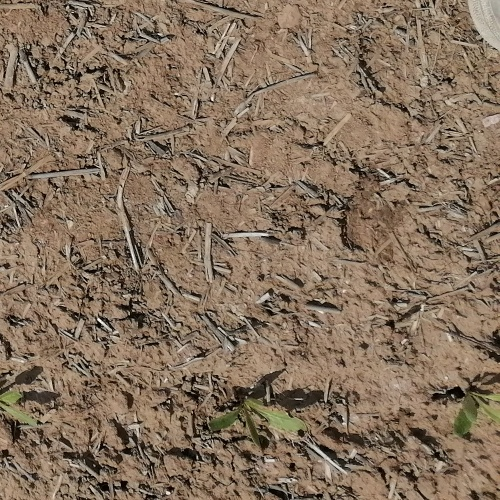beet: (207, 385, 303, 453), (452, 387, 500, 437), (0, 382, 40, 428)
